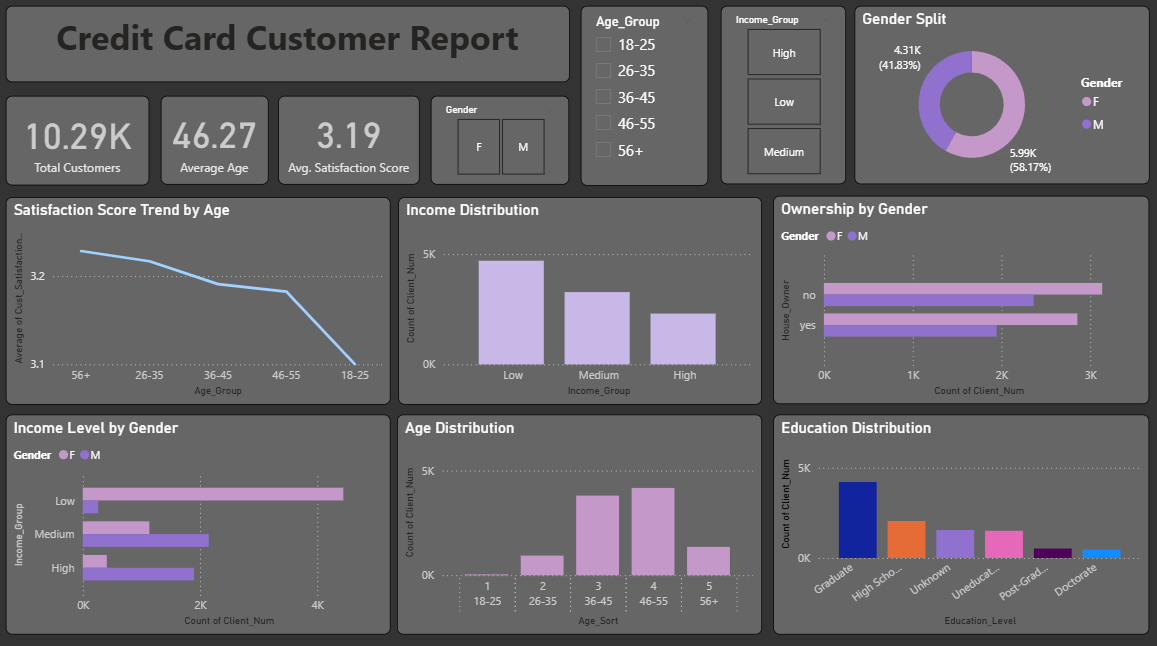

This screenshot's page, from the dashboard's own definition file:
{"tool":"powerbi","page":{"name":"Customer Report","canvas":[1280,720],"ordinal":0},"visuals":[{"type":"card","fields":{"Values":["CountNonNull(Customer.Client_Num)"]},"box":[9.6,113.9,157.8,98.8],"z":0},{"type":"card","fields":{"Values":["Avg(Customer.Customer_Age)"]},"box":[179.8,113.9,118,97.4],"z":1000},{"type":"card","fields":{"Values":["Avg(Customer.Cust_Satisfaction_Score)"]},"box":[308.7,113.9,155.1,97.4],"z":2000},{"type":"donutChart","title":"Gender Split","fields":{"Category":["Customer.Gender"],"Y":["CountNonNull(Customer.Client_Num)"]},"box":[941.3,15.1,323.8,196.2],"z":3000},{"type":"columnChart","title":"Age Distribution","fields":{"Y":["CountNonNull(Customer.Client_Num)"],"Category":["Customer.Age_Group","Customer.Age_Sort"]},"box":[439.1,463.8,400.7,241.5],"z":4000},{"type":"columnChart","title":"Income Distribution","fields":{"Y":["CountNonNull(Customer.Client_Num)"],"Category":["Customer.Income_Group"]},"box":[440.5,225,399.3,227.8],"z":5000},{"type":"clusteredBarChart","title":"Ownership by Gender","fields":{"Y":["CountNonNull(Customer.Client_Num)"],"Category":["Customer.House_Owner"],"Series":["Customer.Gender"]},"box":[852.1,223.7,413,229.2],"z":6000},{"type":"clusteredColumnChart","title":"Education Distribution","fields":{"Category":["Customer.Education_Level"],"Y":["CountNonNull(Customer.Client_Num)"]},"box":[852.1,463.8,413,241.5],"z":7000},{"type":"clusteredBarChart","title":"Income Level by Gender","fields":{"Series":["Customer.Gender"],"Y":["CountNonNull(Customer.Client_Num)"],"Category":["Customer.Income_Group"]},"box":[9.6,463.8,422.6,241.5],"z":8000},{"type":"lineChart","title":"Satisfaction Score Trend by Age","fields":{"Category":["Customer.Age_Group"],"Y":["Avg(Customer.Cust_Satisfaction_Score)"]},"box":[9.6,225,422.6,227.8],"z":9000},{"type":"slicer","fields":{"Values":["Customer.Gender"]},"box":[476.2,113.9,152.3,97.4],"z":10000},{"type":"slicer","fields":{"Values":["Customer.Age_Group"]},"box":[640.8,15.1,140,197.6],"z":11000},{"type":"slicer","fields":{"Values":["Customer.Income_Group"]},"box":[794.5,15.1,137.2,196.2],"z":12000},{"type":"textbox","box":[9.6,15.1,618.9,83.7],"z":13000}]}

Visuals, with their boxes in screenshot pixels (x1, y1, x2, y2), scaled from the page's 1280x720 canvas onto the 1157x646 screenshot:
card - CountNonNull(Customer.Client_Num): select_region(9, 102, 151, 191)
card - Avg(Customer.Customer_Age): select_region(163, 102, 269, 190)
card - Avg(Customer.Cust_Satisfaction_Score): select_region(279, 102, 419, 190)
"Gender Split" donutChart: select_region(851, 14, 1144, 190)
"Age Distribution" columnChart: select_region(397, 416, 759, 633)
"Income Distribution" columnChart: select_region(398, 202, 759, 406)
"Ownership by Gender" clusteredBarChart: select_region(770, 201, 1144, 406)
"Education Distribution" clusteredColumnChart: select_region(770, 416, 1144, 633)
"Income Level by Gender" clusteredBarChart: select_region(9, 416, 391, 633)
"Satisfaction Score Trend by Age" lineChart: select_region(9, 202, 391, 406)
slicer - Customer.Gender: select_region(430, 102, 568, 190)
slicer - Customer.Age_Group: select_region(579, 14, 706, 191)
slicer - Customer.Income_Group: select_region(718, 14, 842, 190)
textbox: select_region(9, 14, 568, 89)
